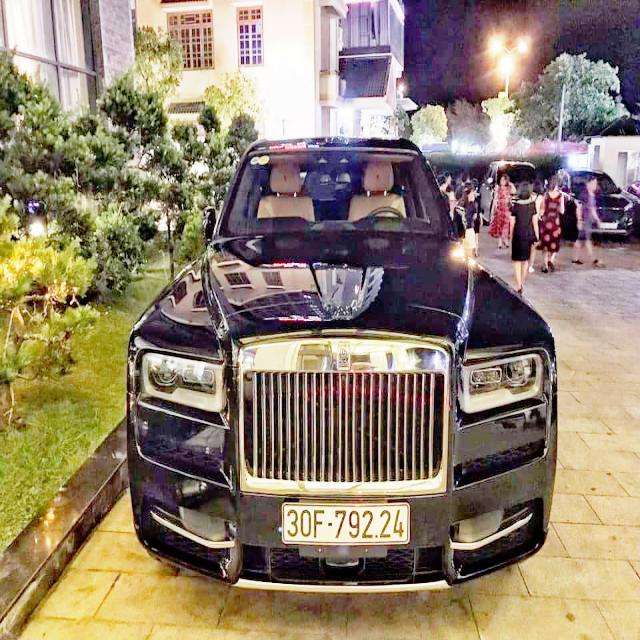license_plate: (283, 504, 411, 543)
